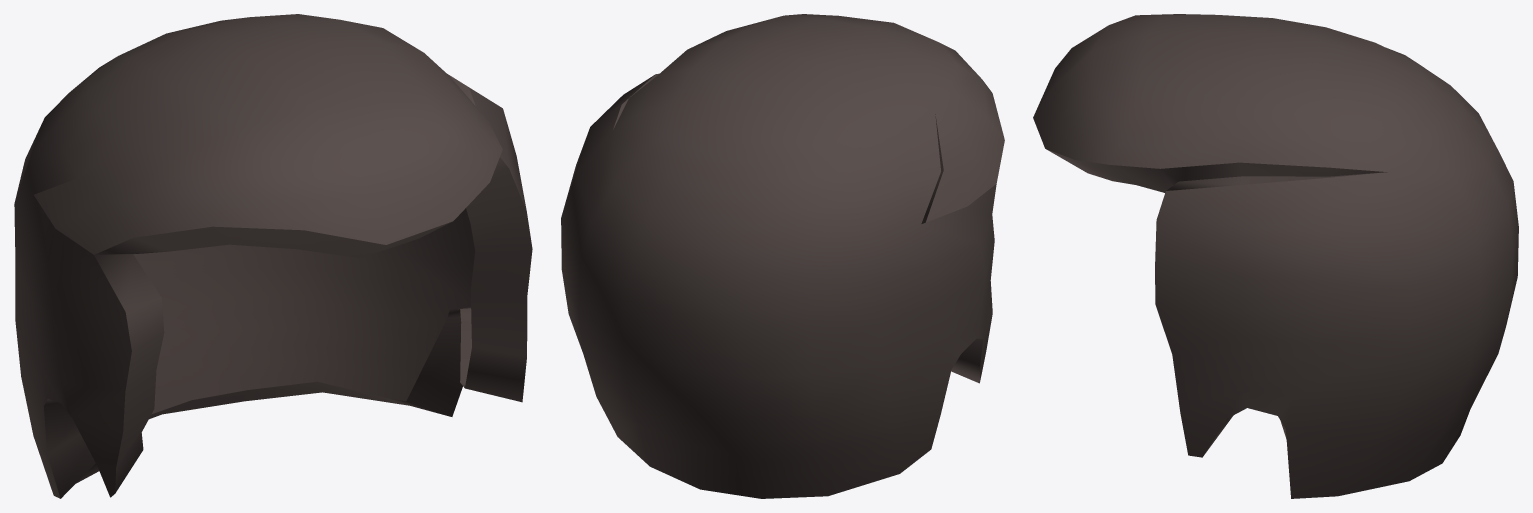
File: Racer_Head_03_Hair.fbx
3 views of the same model, side by side, from view 1: azimuth 30°, elevation 25°; view 2: azimuth 150°, elevation 25°; view 3: azimuth 270°, elevation 25° (orthographic). The views are drawn at different scales.
Visible parts, largest first — view 1: Racer_Head_03_Hair; view 2: Racer_Head_03_Hair; view 3: Racer_Head_03_Hair.
Part boxes in pixels (x1,y1,x2,y2): Racer_Head_03_Hair: (14,14,532,498); Racer_Head_03_Hair: (561,14,1004,498); Racer_Head_03_Hair: (1033,14,1518,498).
Bounding box in the file's own units: 27.56 × 28.82 × 25.64.
